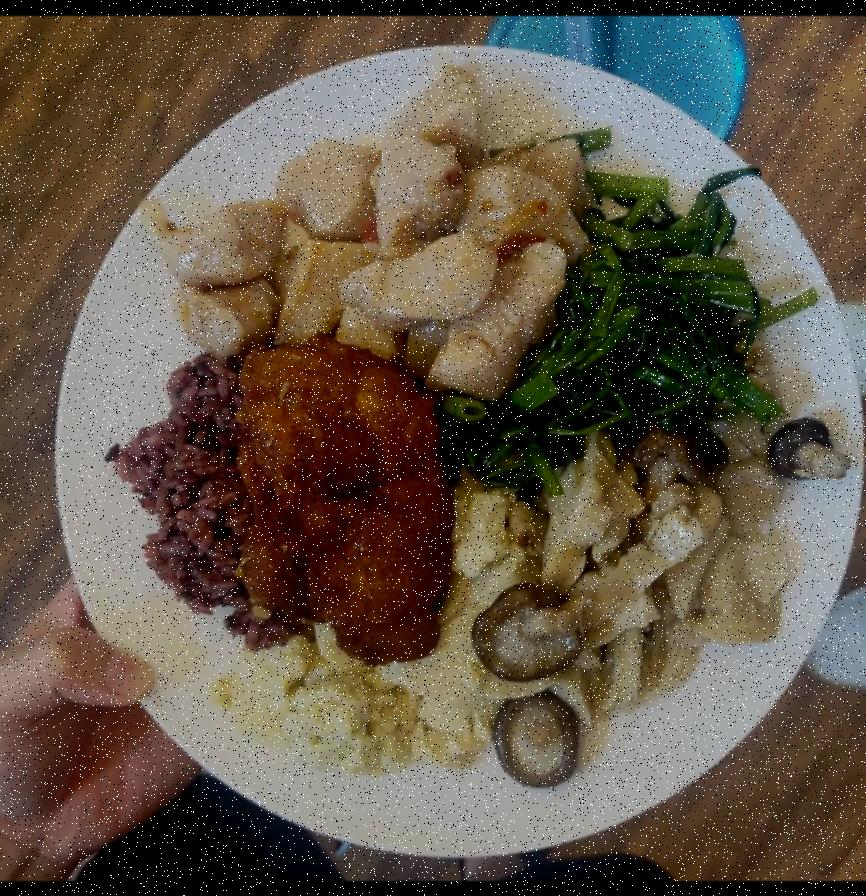grilled chicken leg steak: (228, 339, 453, 666)
plate: (39, 33, 866, 866)
purple rice: (100, 343, 240, 624)
scallion chicken: (160, 72, 582, 393)
side dish: (488, 418, 856, 789), (454, 185, 762, 491), (230, 488, 534, 766)
